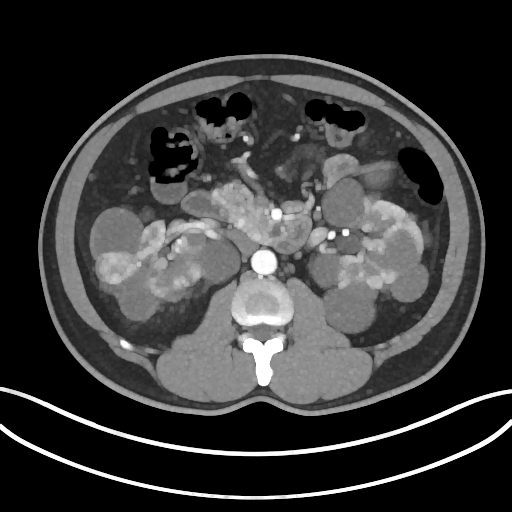Lesion: (92, 250, 143, 287)
